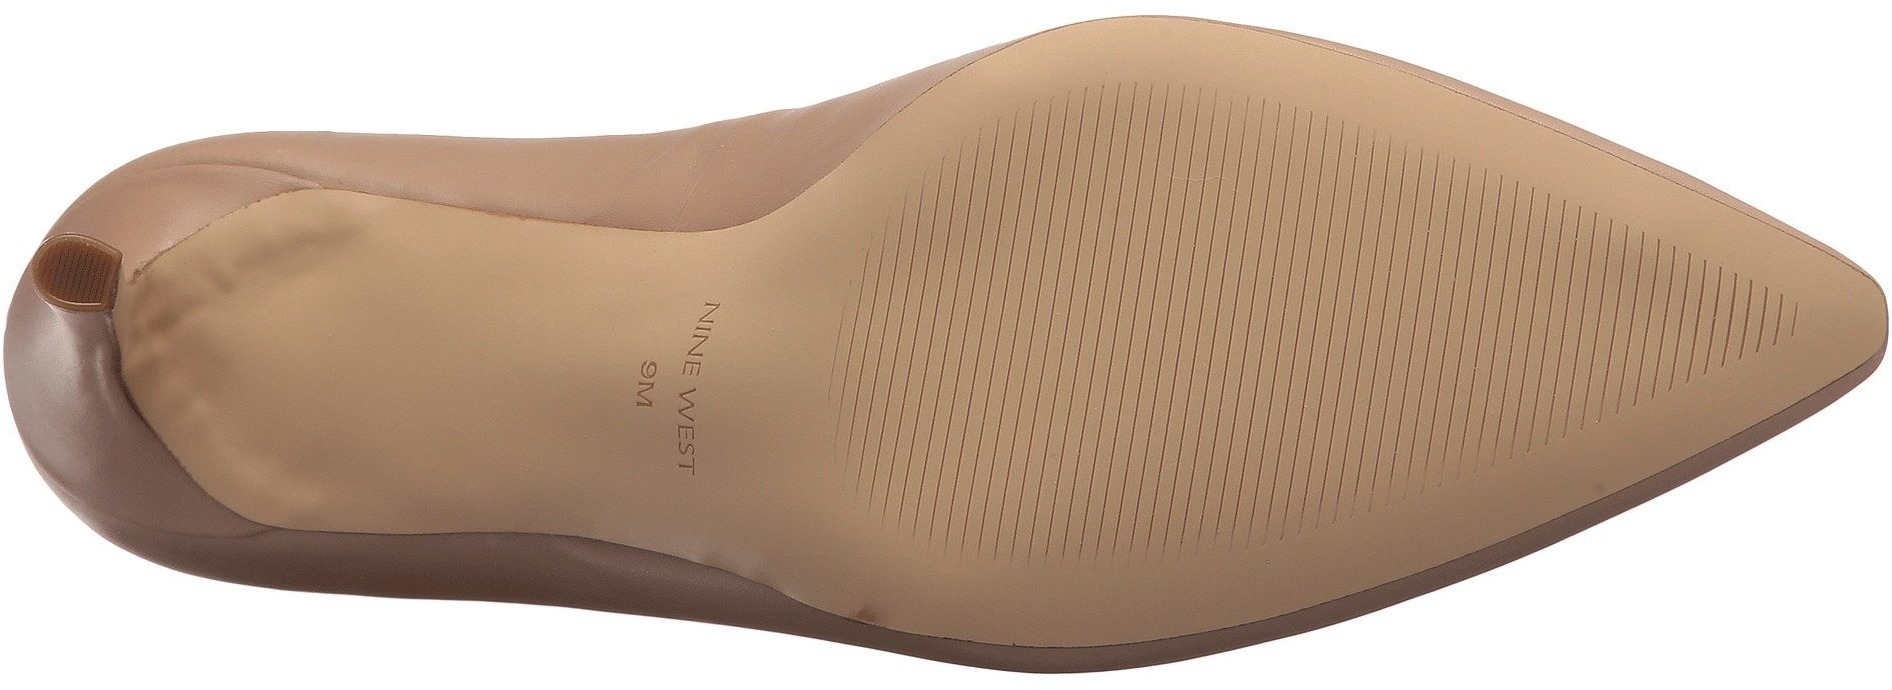exclude: (48, 31, 860, 660)
other: (869, 186, 1233, 531), (1233, 116, 1511, 463), (1516, 240, 1682, 405), (49, 244, 105, 302)
